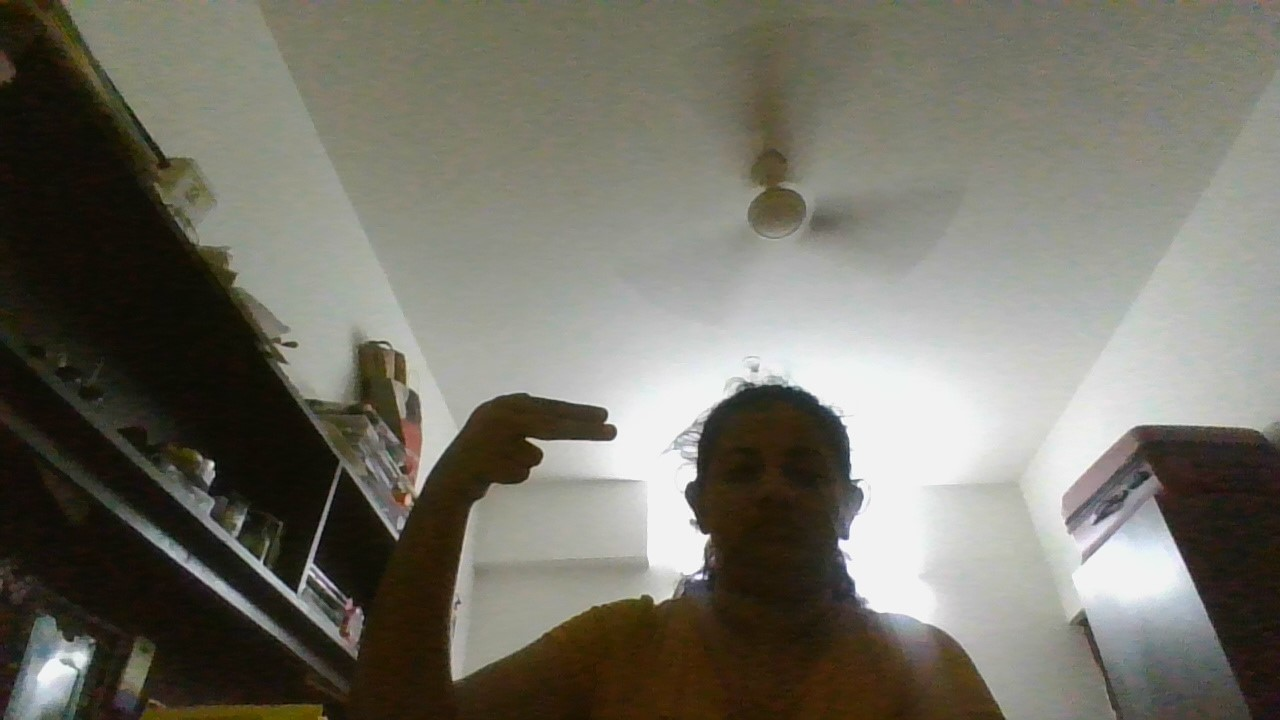h: (422, 373, 633, 518)
